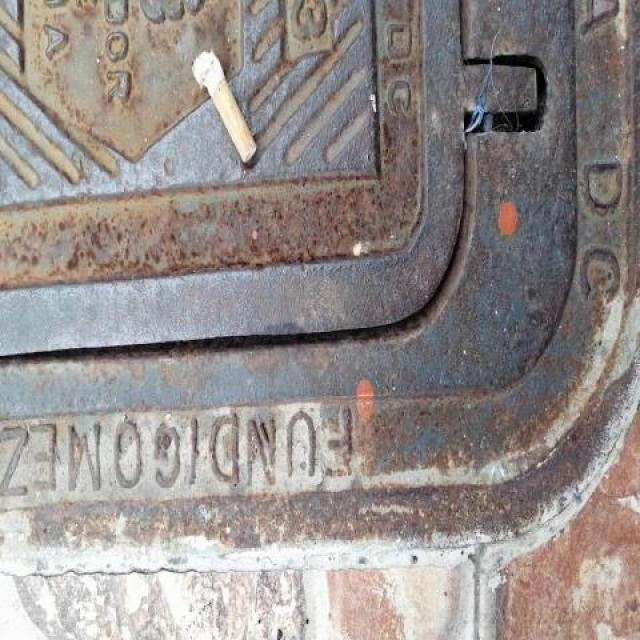non-organic waste: (188, 46, 260, 169)
